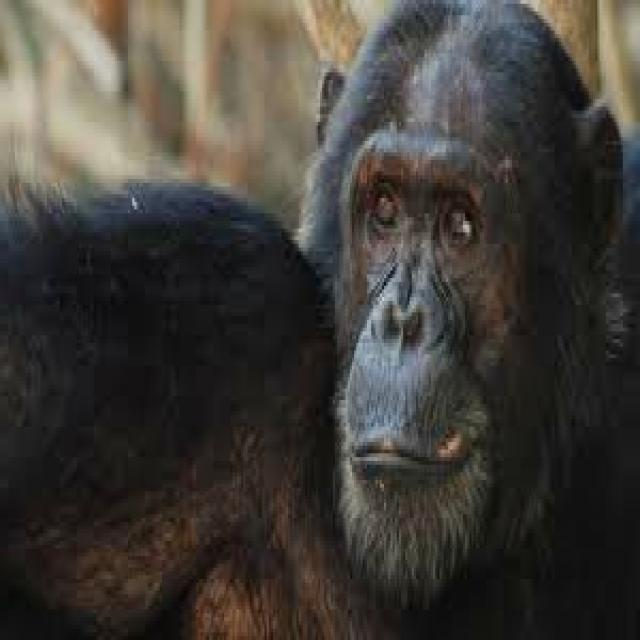chimpanzee: (2, 0, 640, 636)
